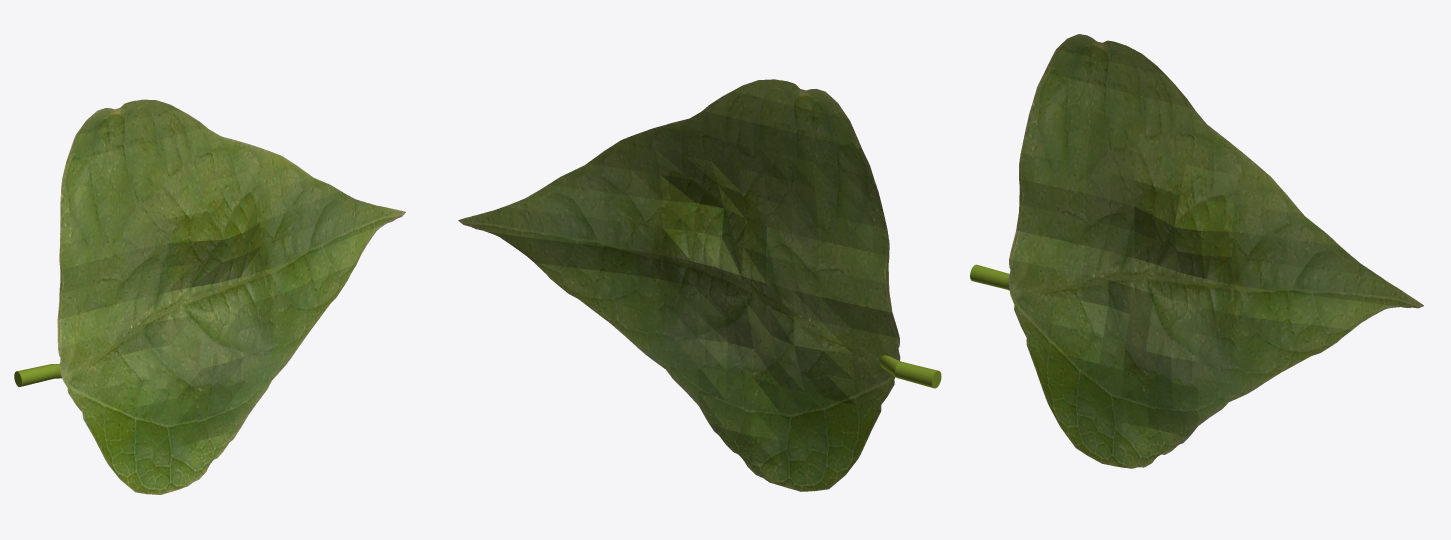
Rendered from BeanLeaf.obj.
3 renders of one model, left to right at view 1: azimuth 30°, elevation 25°; view 2: azimuth 150°, elevation 25°; view 3: azimuth 330°, elevation 25°, orthographic. The views are drawn at different scales.
Visible parts, largest first — view 1: Plane, Cylinder; view 2: Plane, Cylinder; view 3: Plane, Cylinder.
Part boxes in pixels (x1,y1,x2,y2): Plane: (57, 99, 405, 494); Cylinder: (14, 363, 61, 386); Plane: (458, 79, 900, 491); Cylinder: (879, 355, 941, 388); Plane: (1008, 34, 1423, 468); Cylinder: (970, 264, 1009, 290).
Size of the model in its own units: 1.09 by 0.9981 by 0.1874.
